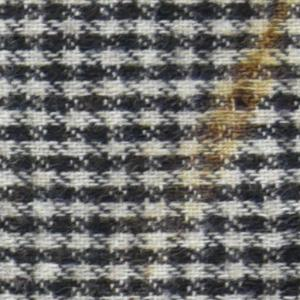Damage: (205, 52, 274, 163)
Oil Stain: (103, 1, 300, 298)
